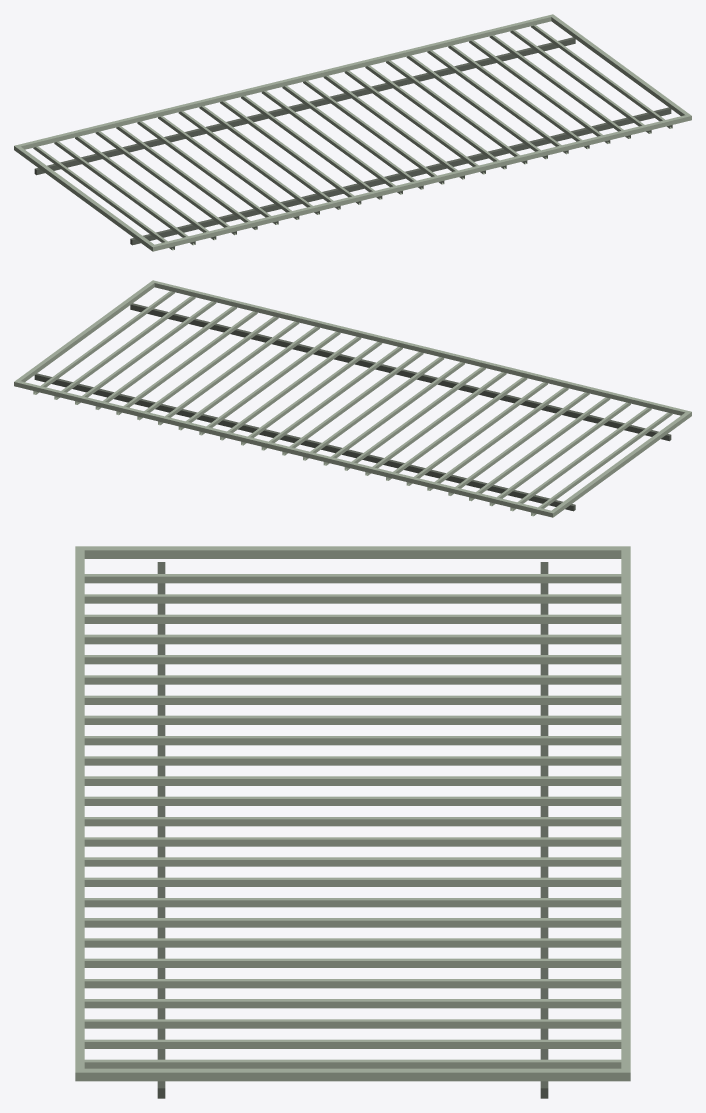
The model's file is SM_LabCold_Shelf_Wire_130x58x3.fbx.
The picture shows the model from 3 angles, top to bottom: view 1: azimuth 30°, elevation 25°; view 2: azimuth 150°, elevation 25°; view 3: azimuth 270°, elevation 25°; orthographic projection. The views are drawn at different scales.
Visible parts, largest first — view 1: SM_LabCold_Shelf_Wire_130x58x3.001; view 2: SM_LabCold_Shelf_Wire_130x58x3.001; view 3: SM_LabCold_Shelf_Wire_130x58x3.001.
Boxes of the visible parts, x1,y1,x2,y2 form: SM_LabCold_Shelf_Wire_130x58x3.001: [14, 14, 691, 251]; SM_LabCold_Shelf_Wire_130x58x3.001: [14, 280, 691, 517]; SM_LabCold_Shelf_Wire_130x58x3.001: [75, 546, 630, 1098].
Bounding box in the file's own units: 1.3 × 0.03 × 0.58.
